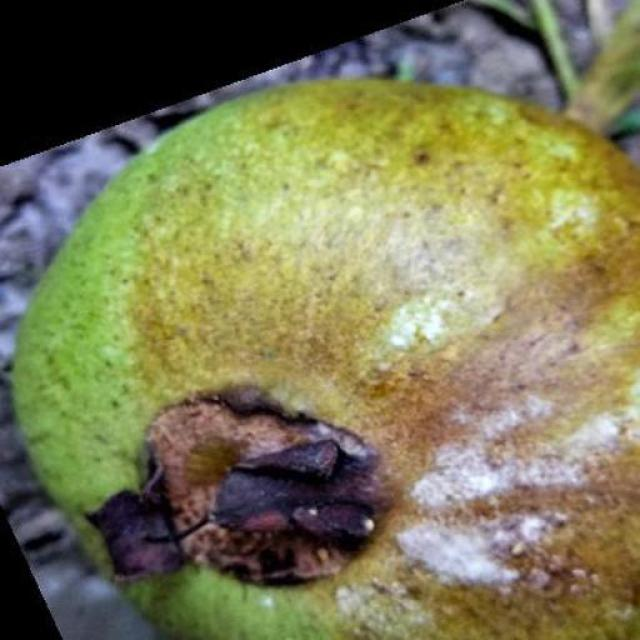Phytopthora: (15, 81, 640, 640)
